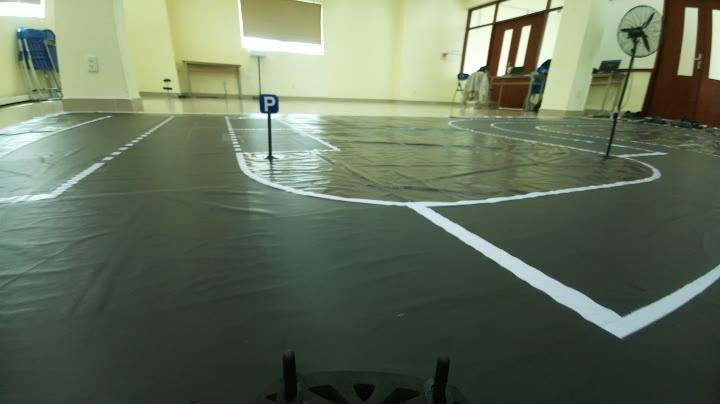parking: (258, 89, 284, 121)
